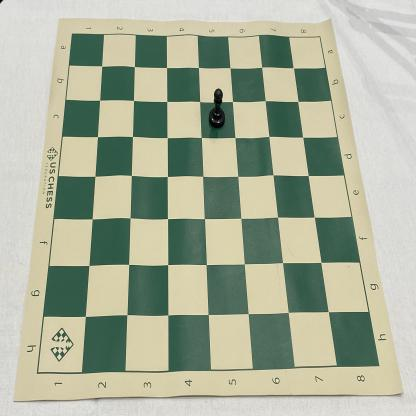black-pawn: (208, 88, 226, 128)
